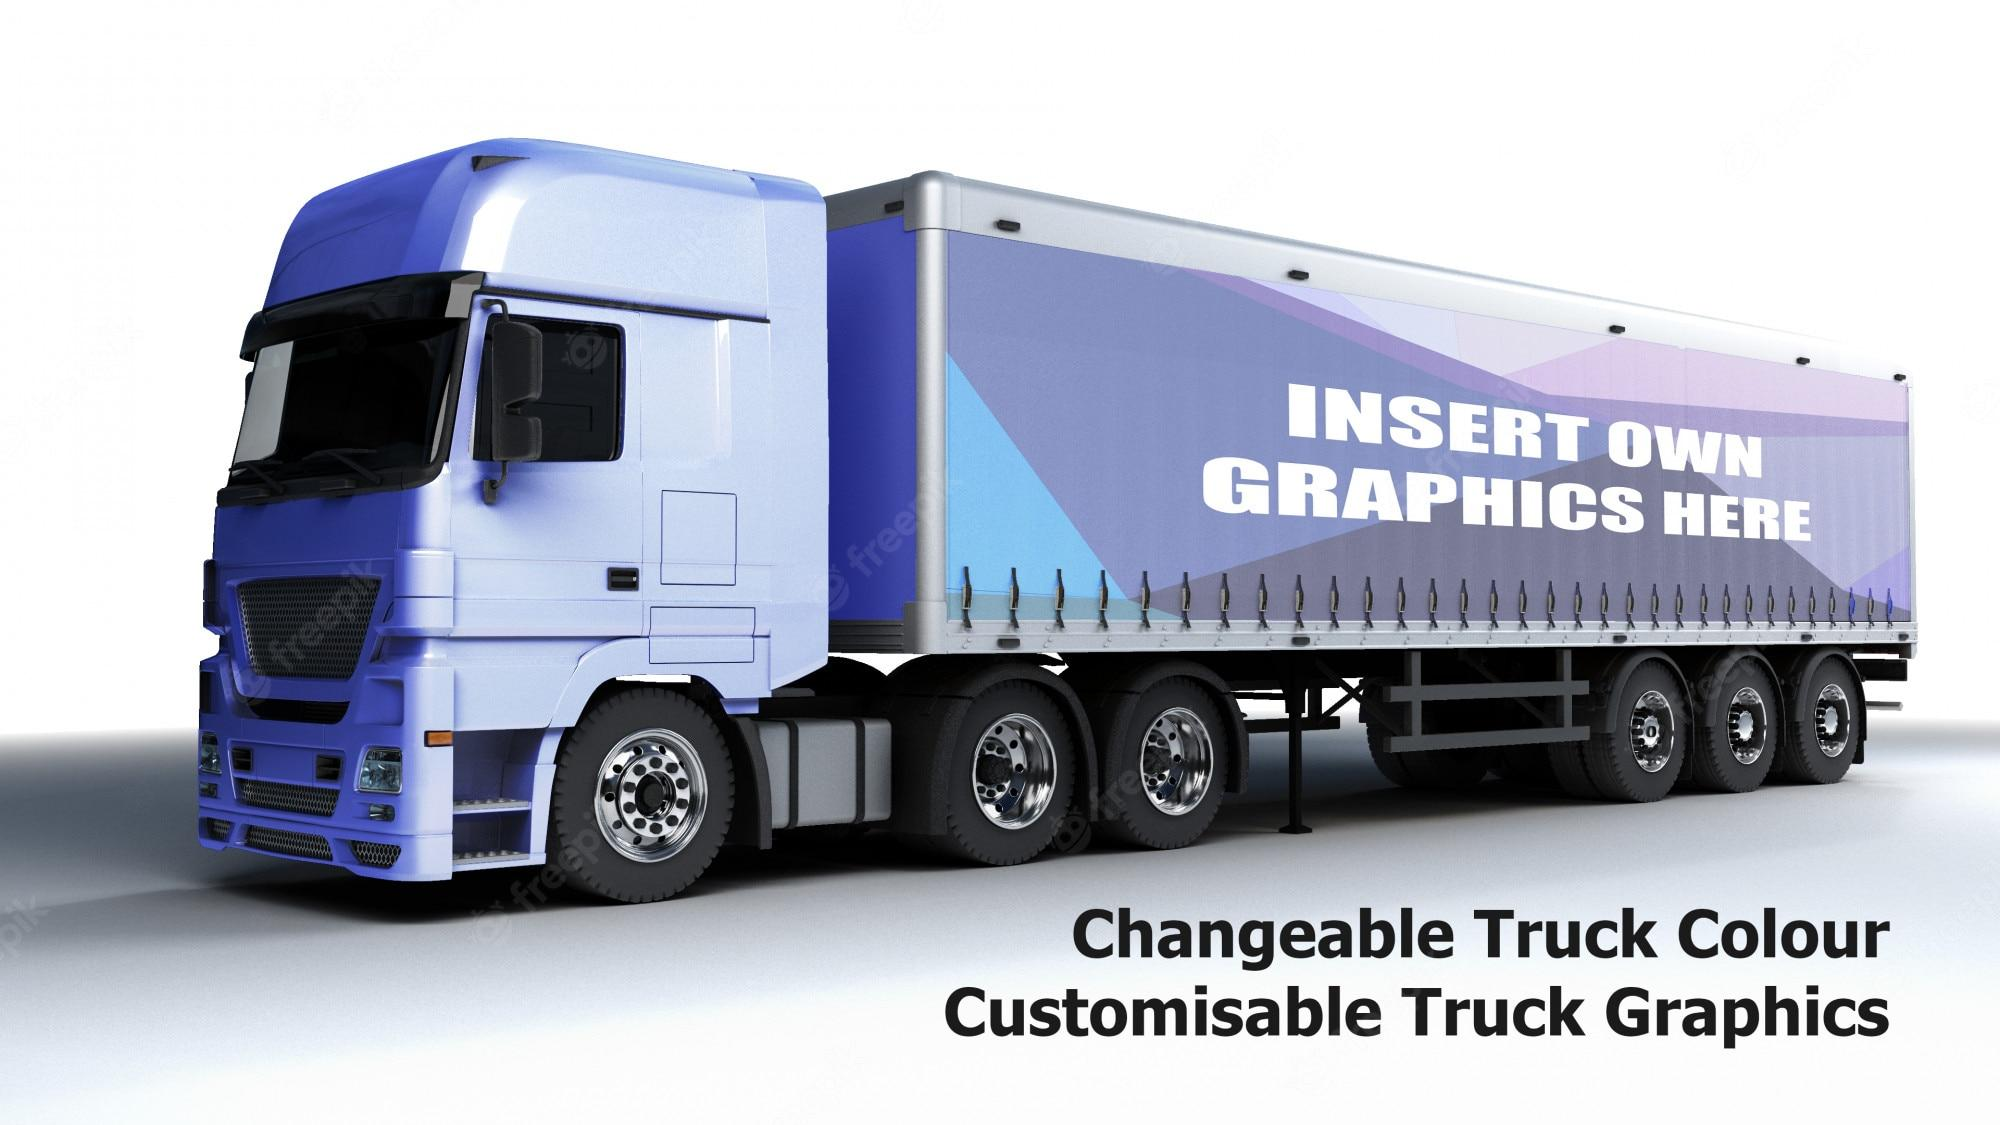truck: (194, 136, 1916, 907)
